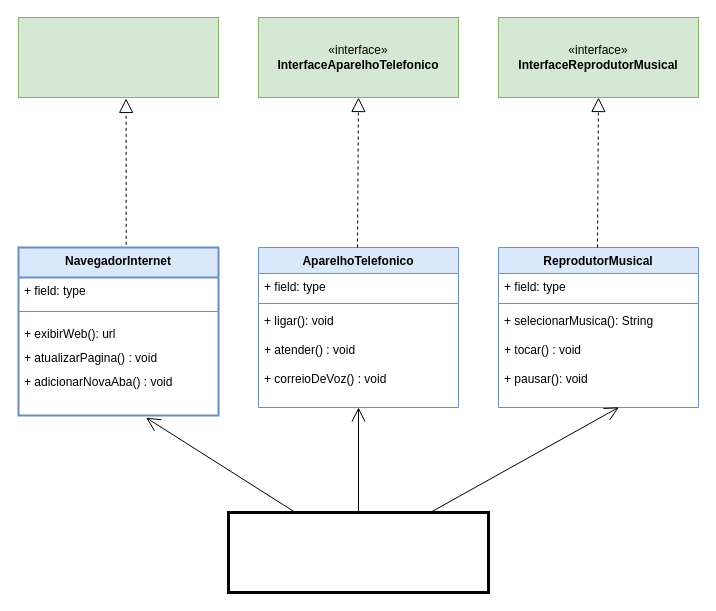
The diagram is 716 pixels wide and 611 high, and some of its shapes have lost their labels. Here are the shapes that lost their labels. From the top down, the centre of each, then its label:
At point 118,57: "«interface» InterfaceNavegadorInternet".
At point 358,552: "Iphone".
